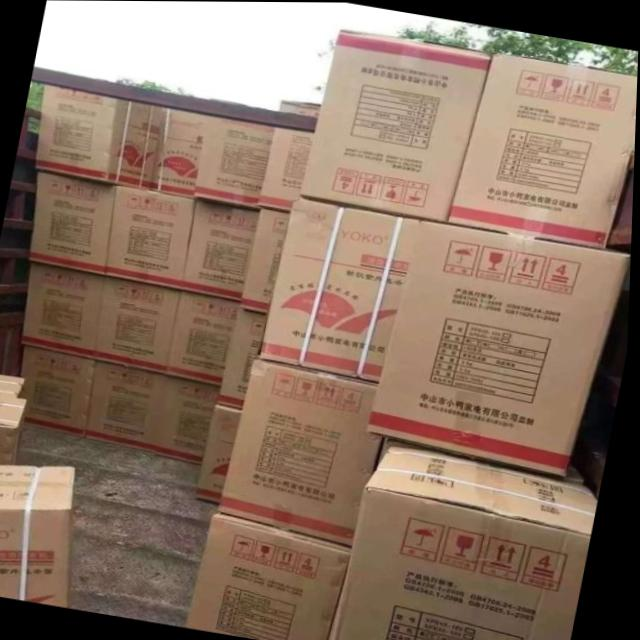box: (368, 221, 633, 480), (334, 440, 598, 640), (450, 53, 638, 249), (307, 30, 493, 222), (223, 358, 388, 548), (260, 195, 422, 383), (186, 511, 352, 640), (37, 85, 165, 190), (0, 463, 81, 604), (32, 166, 115, 276), (111, 187, 197, 289), (182, 199, 263, 301), (25, 260, 108, 357), (194, 115, 278, 210), (89, 354, 168, 450), (100, 275, 180, 369), (168, 289, 242, 386), (25, 344, 99, 435), (153, 372, 223, 464), (239, 208, 291, 316), (217, 308, 272, 408), (149, 107, 207, 198), (200, 402, 248, 504), (262, 126, 316, 213), (0, 373, 30, 464), (570, 453, 587, 487)
